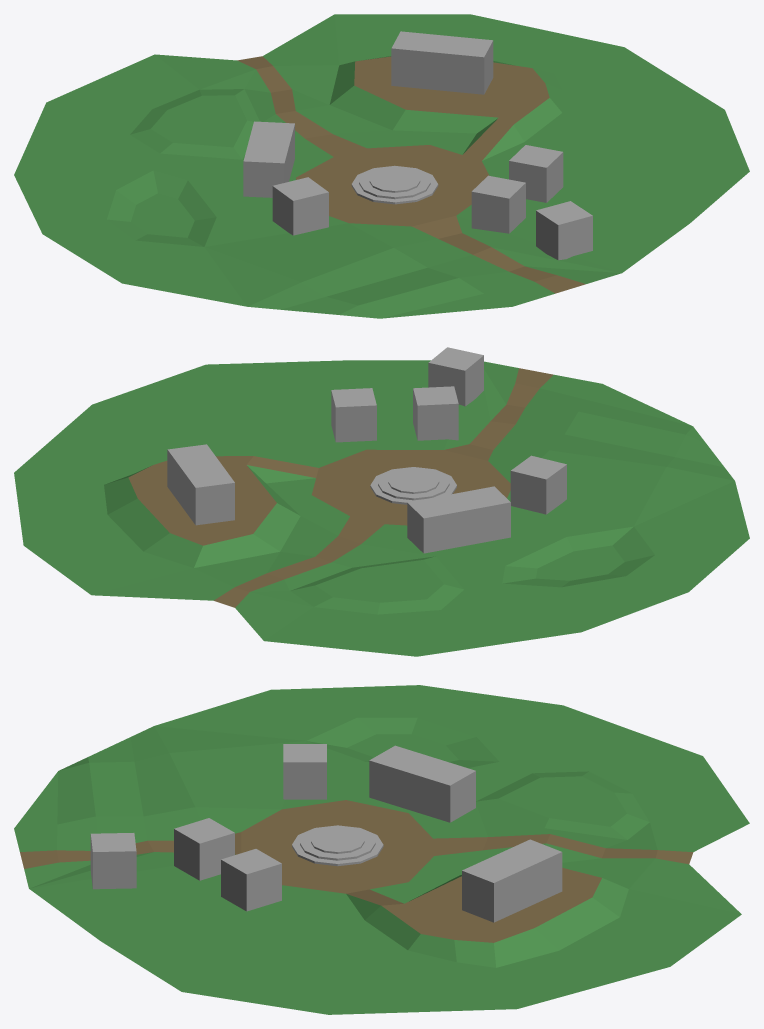
Rendered from Arena.fbx.
3 views of the same model, one above another, from view 1: azimuth 30°, elevation 25°; view 2: azimuth 150°, elevation 25°; view 3: azimuth 270°, elevation 25° (orthographic). The views are drawn at different scales.
Visible parts, largest first — view 1: pCylinder1, pCube6, pCube5, pCube3, pCube4, pCube1, pCylinder2, pCube2; view 2: pCylinder1, pCube5, pCube6, pCube4, pCylinder2, pCube1, pCube2, pCube3; view 3: pCylinder1, pCube6, pCube5, pCube2, pCylinder2, pCube1, pCube3, pCube4.
Part boxes in pixels (x1,y1,x2,y2): pCylinder1: [14, 14, 749, 318]; pCube6: [391, 31, 493, 94]; pCube5: [243, 121, 294, 197]; pCube3: [536, 201, 592, 260]; pCube4: [272, 177, 328, 235]; pCube1: [471, 175, 525, 233]; pCylinder2: [351, 165, 438, 204]; pCube2: [509, 145, 563, 202]; pCylinder1: [14, 360, 749, 656]; pCube5: [407, 486, 510, 553]; pCube6: [167, 444, 234, 525]; pCube4: [510, 455, 566, 514]; pCylinder2: [370, 467, 456, 504]; pCube1: [413, 386, 458, 440]; pCube2: [331, 388, 376, 442]; pCube3: [428, 347, 483, 406]; pCylinder1: [14, 685, 749, 1014]; pCube6: [462, 839, 562, 922]; pCube5: [369, 745, 475, 822]; pCube2: [221, 849, 281, 911]; pCylinder2: [292, 825, 383, 866]; pCube1: [174, 818, 234, 880]; pCube3: [90, 833, 136, 889]; pCube4: [283, 744, 326, 799].
Size of the model in its own units: 68.23 by 5.63 by 64.34.
